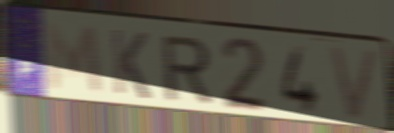2: (218, 35, 269, 115)
4: (280, 45, 321, 116)
K: (108, 26, 153, 102)
M: (43, 20, 106, 98)
R: (159, 34, 215, 105)
V: (325, 44, 383, 124)
